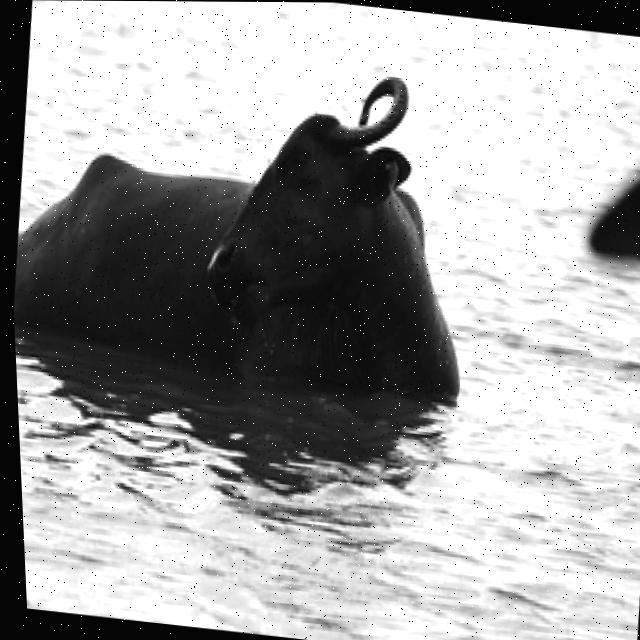Buffalo: (1, 30, 494, 411)
